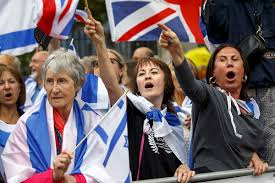middle_eastern_Female: (210, 44, 246, 92)
